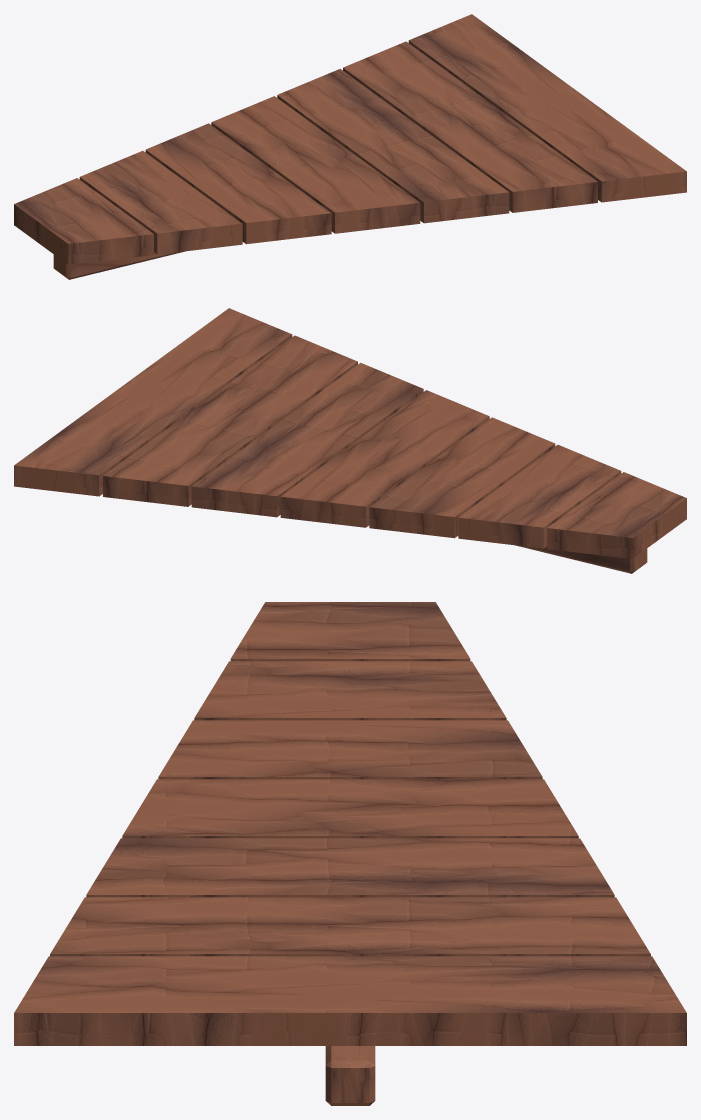
The model's file is Platform_Wedge30.glb.
The picture shows the model from 3 angles, top to bottom: view 1: azimuth 30°, elevation 25°; view 2: azimuth 150°, elevation 25°; view 3: azimuth 270°, elevation 25°; orthographic projection. The views are drawn at different scales.
Visible parts, largest first — view 1: Platform_Wedge30__Platform_Wedge30.006, Platform_Wedge30__Platform_Wedge30.005, Platform_Wedge30__Platform_Wedge30.004, Platform_Wedge30__Platform_Wedge30.003, Platform_Wedge30__Platform_Wedge30.002, Platform_Wedge30__Platform_Wedge30.001, Platform_Wedge30__Platform_Wedge30, Platform_Wedge30__立方体; view 2: Platform_Wedge30__Platform_Wedge30.006, Platform_Wedge30__Platform_Wedge30.005, Platform_Wedge30__Platform_Wedge30.004, Platform_Wedge30__Platform_Wedge30.003, Platform_Wedge30__Platform_Wedge30.002, Platform_Wedge30__Platform_Wedge30.001, Platform_Wedge30__Platform_Wedge30, Platform_Wedge30__立方体; view 3: Platform_Wedge30__Platform_Wedge30.006, Platform_Wedge30__Platform_Wedge30.005, Platform_Wedge30__Platform_Wedge30.004, Platform_Wedge30__Platform_Wedge30.003, Platform_Wedge30__Platform_Wedge30.002, Platform_Wedge30__Platform_Wedge30.001, Platform_Wedge30__Platform_Wedge30, Platform_Wedge30__立方体.
Boxes of the visible parts, x1,y1,x2,y2 form: Platform_Wedge30__Platform_Wedge30.006: (408,14,686,202); Platform_Wedge30__Platform_Wedge30.005: (343,41,597,212); Platform_Wedge30__Platform_Wedge30.004: (277,68,509,223); Platform_Wedge30__Platform_Wedge30.003: (211,96,420,233); Platform_Wedge30__Platform_Wedge30.002: (145,123,331,244); Platform_Wedge30__Platform_Wedge30.001: (79,150,242,254); Platform_Wedge30__Platform_Wedge30: (14,178,153,264); Platform_Wedge30__立方体: (53,251,185,279); Platform_Wedge30__Platform_Wedge30.006: (14,308,292,496); Platform_Wedge30__Platform_Wedge30.005: (103,335,357,506); Platform_Wedge30__Platform_Wedge30.004: (191,362,423,517); Platform_Wedge30__Platform_Wedge30.003: (280,390,489,527); Platform_Wedge30__Platform_Wedge30.002: (369,417,555,538); Platform_Wedge30__Platform_Wedge30.001: (458,444,621,548); Platform_Wedge30__Platform_Wedge30: (547,472,686,558); Platform_Wedge30__立方体: (515,545,647,573); Platform_Wedge30__Platform_Wedge30.006: (14,956,686,1045); Platform_Wedge30__Platform_Wedge30.005: (50,897,650,956); Platform_Wedge30__Platform_Wedge30.004: (86,838,614,897); Platform_Wedge30__Platform_Wedge30.003: (122,779,578,838); Platform_Wedge30__Platform_Wedge30.002: (158,720,542,779); Platform_Wedge30__Platform_Wedge30.001: (194,661,506,720); Platform_Wedge30__Platform_Wedge30: (230,602,470,661); Platform_Wedge30__立方体: (325,1046,375,1105).
Bounding box in the file's own units: 4.35 × 0.43 × 2.96.
Materials: 6 (6 with a texture image).
